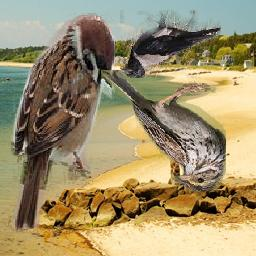Crow: (121, 10, 222, 78)
Sparrow: (11, 13, 115, 229), (102, 70, 227, 192)
